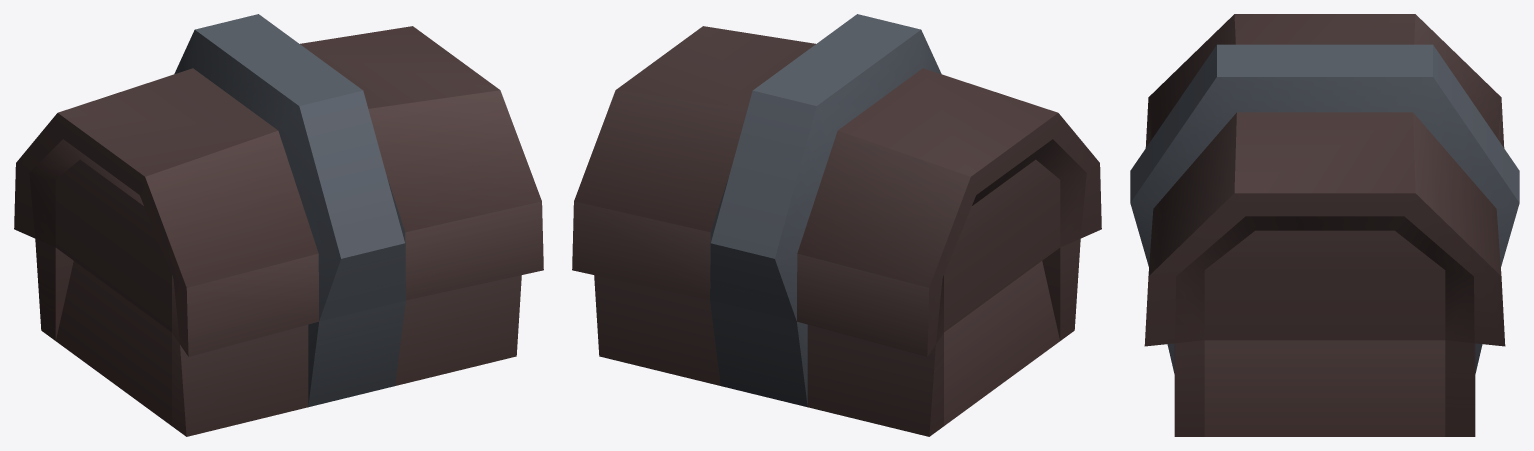
File: trunk_medium_A.glb
3 renders of one model, left to right at view 1: azimuth 30°, elevation 25°; view 2: azimuth 150°, elevation 25°; view 3: azimuth 270°, elevation 25°, orthographic. The views are drawn at different scales.
Parts seen in each view (by area): view 1: trunk_medium_A; view 2: trunk_medium_A; view 3: trunk_medium_A.
Part boxes in pixels (x1,y1,x2,y2): trunk_medium_A: (14,14,543,436); trunk_medium_A: (572,14,1101,436); trunk_medium_A: (1130,14,1519,436).
Bounding box in the file's own units: 0.953 × 0.7265 × 0.8751.
Materials: 1 (1 with a texture image).
